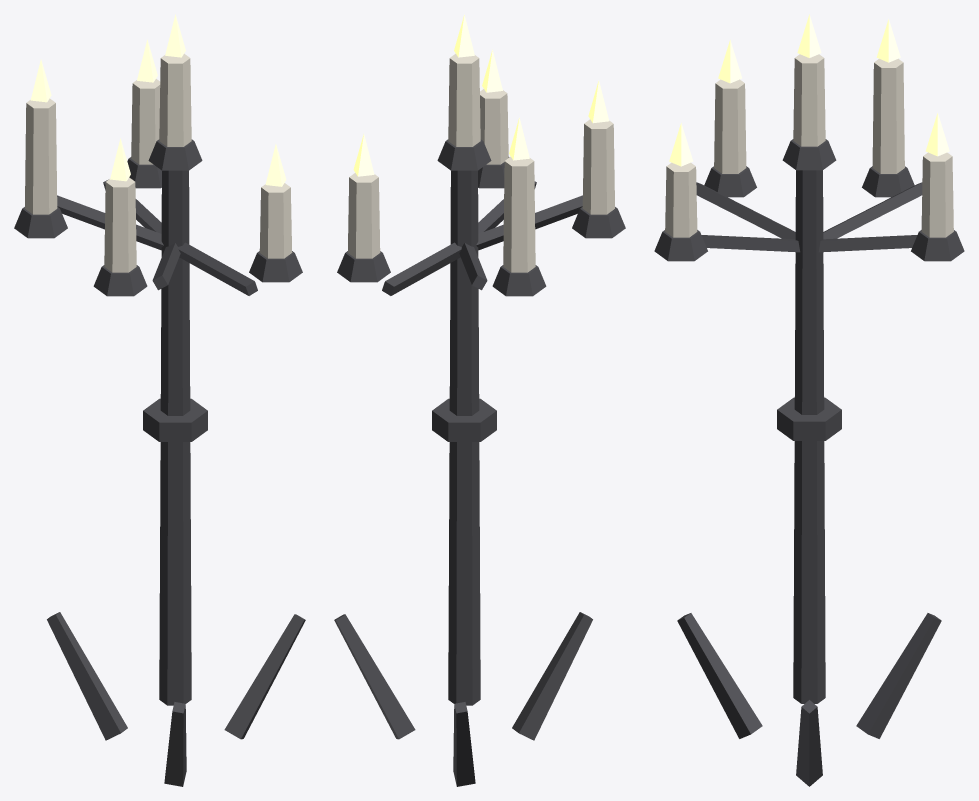
The model's file is candelabra.glb.
3 views of the same model, side by side, from view 1: azimuth 30°, elevation 25°; view 2: azimuth 150°, elevation 25°; view 3: azimuth 270°, elevation 25° (orthographic).
Parts seen in each view (by area): view 1: candelabra; view 2: candelabra; view 3: candelabra.
Boxes of the visible parts, x1,y1,x2,y2 form: candelabra: (14, 14, 305, 786); candelabra: (334, 14, 625, 786); candelabra: (654, 14, 964, 786).
Bounding box in the file's own units: 1.05 × 3.03 × 1.15.
